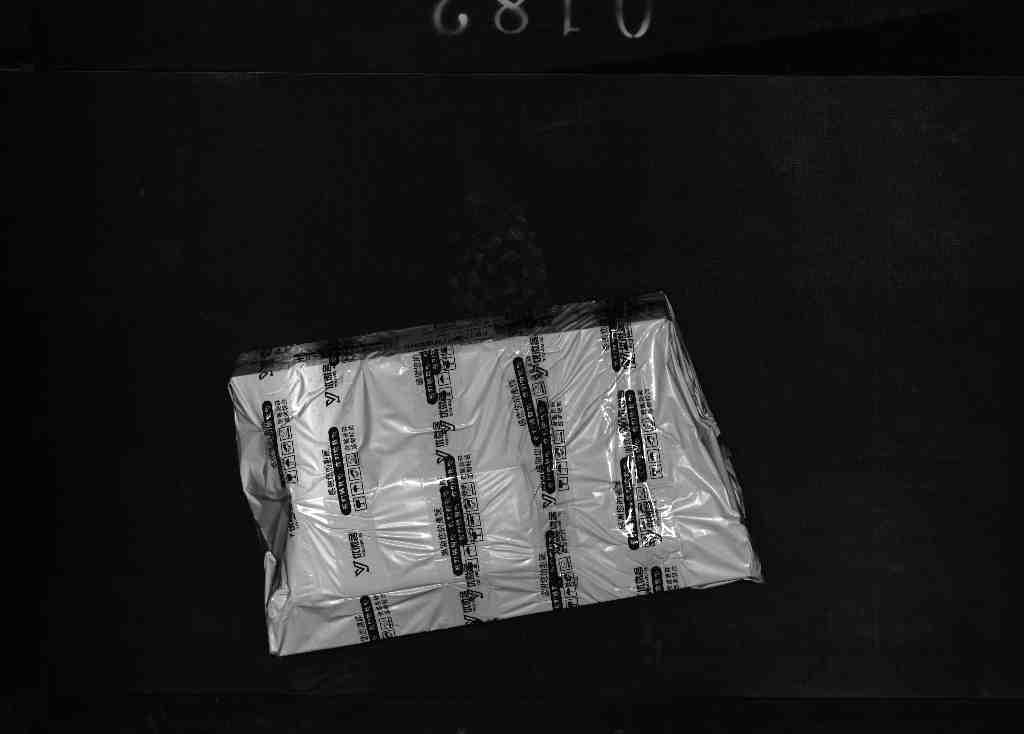box: (226, 300, 769, 645)
